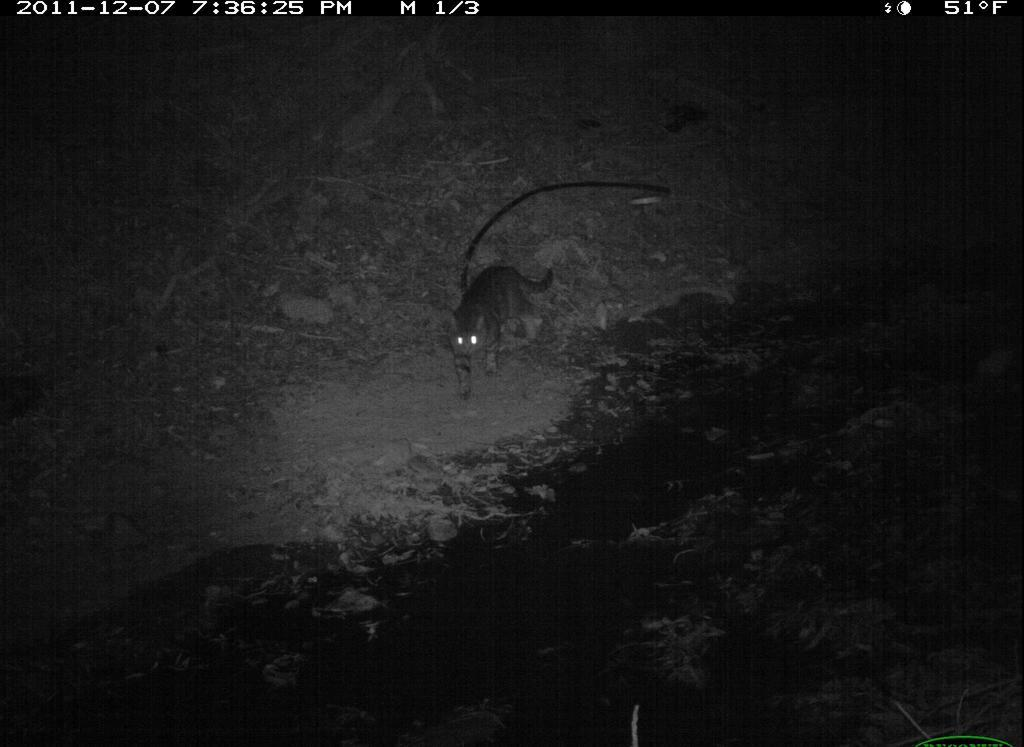cat: (446, 245, 561, 414)
